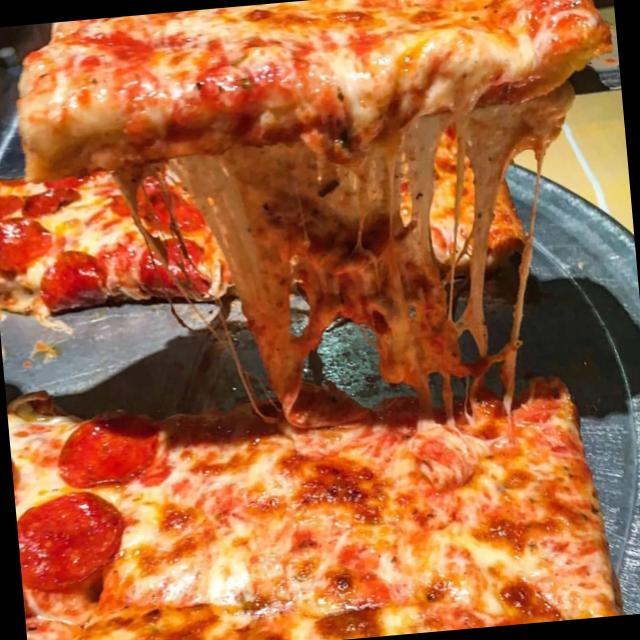pepperoni: (18, 484, 126, 604), (53, 409, 166, 489), (127, 232, 213, 302), (39, 241, 115, 311), (111, 184, 198, 242), (0, 214, 53, 275), (24, 182, 82, 217), (0, 186, 21, 224)
pizza: (6, 293, 628, 640), (17, 0, 613, 204), (0, 171, 231, 319)
